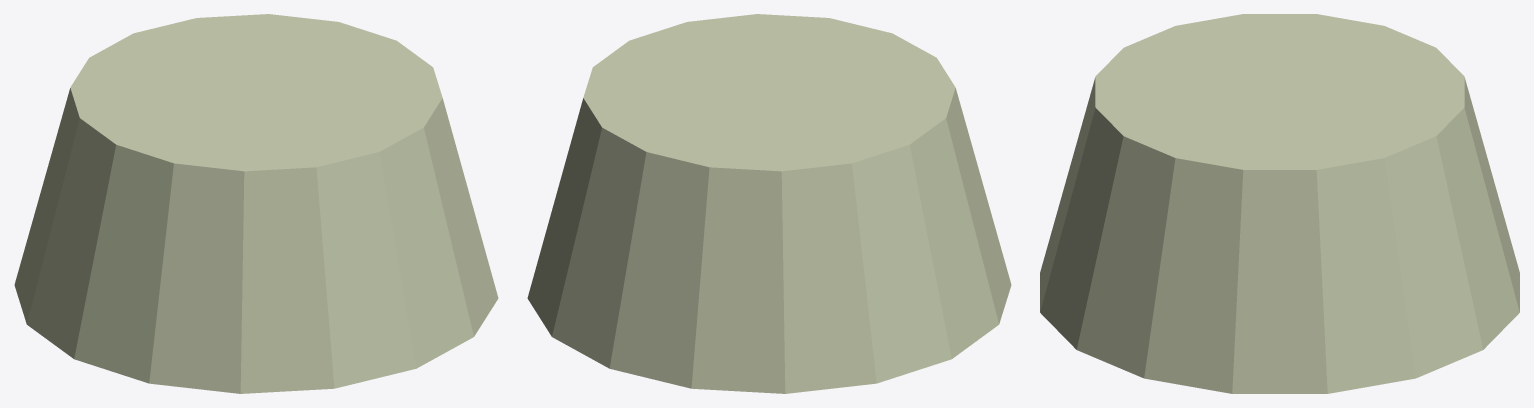
Rendered from virgo_engine_s1_1_collider.obj.
3 views of the same model, side by side, from view 1: azimuth 30°, elevation 25°; view 2: azimuth 150°, elevation 25°; view 3: azimuth 270°, elevation 25° (orthographic).
Parts seen in each view (by area): view 1: collider; view 2: collider; view 3: collider.
Part boxes in pixels (<box>): collider: <box>14,14,498,393</box>; collider: <box>527,14,1011,393</box>; collider: <box>1040,14,1519,393</box>.
Size of the model in its own units: 1.62 by 0.75 by 1.62.
